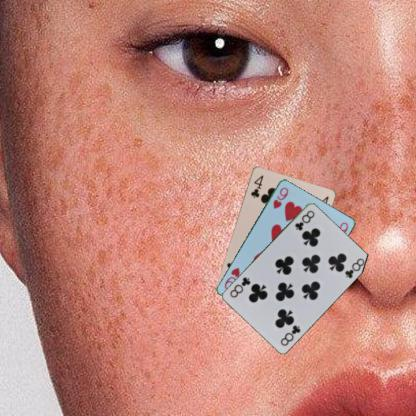4c: (248, 172, 264, 200)
8c: (278, 322, 302, 346), (292, 207, 315, 232)
9h: (271, 184, 290, 210)
